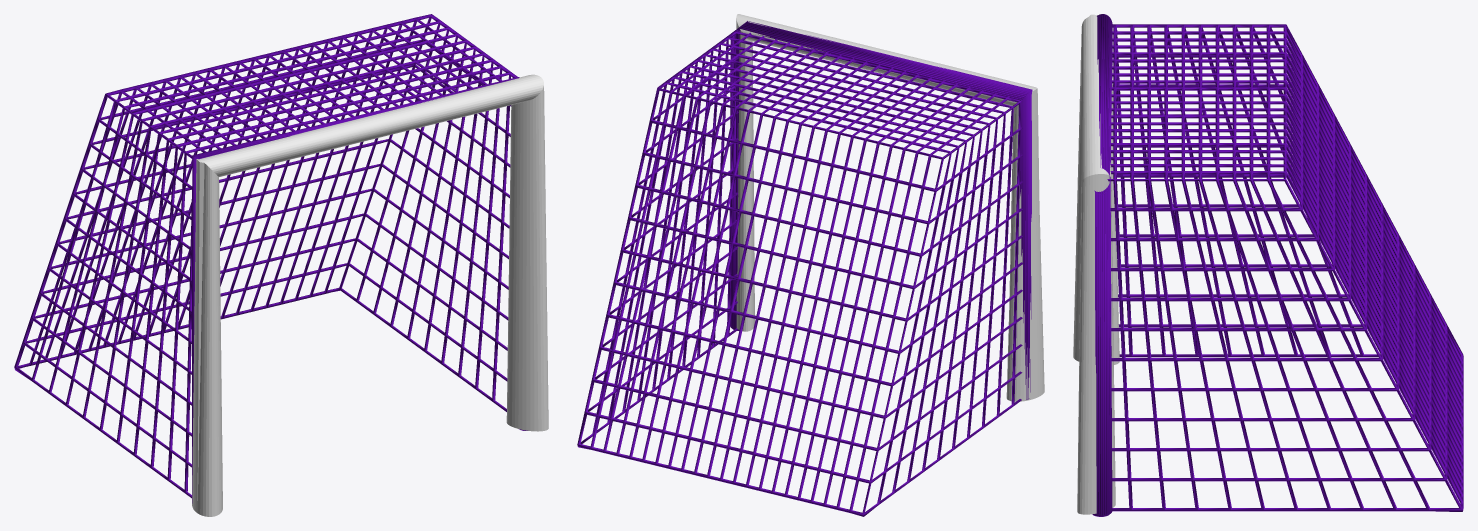
The model's file is goalPostModel.dae.
3 views of the same model, side by side, from view 1: azimuth 30°, elevation 25°; view 2: azimuth 150°, elevation 25°; view 3: azimuth 270°, elevation 25° (orthographic). The views are drawn at different scales.
Parts seen in each view (by area): view 1: Cube, Cylinder; view 2: Cube, Cylinder; view 3: Cube, Cylinder.
Part boxes in pixels (x1=…): Cube: x1=14, y1=14, x2=527, y2=503; Cylinder: x1=192, y1=74, x2=548, y2=516; Cube: x1=577, y1=21, x2=1032, y2=516; Cylinder: x1=736, y1=14, x2=1044, y2=401; Cube: x1=1092, y1=14, x2=1463, y2=516; Cylinder: x1=1073, y1=14, x2=1119, y2=514.
Size of the model in its own units: 1.09 by 1.09 by 1.05.
